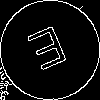E: (25, 25, 73, 80)
